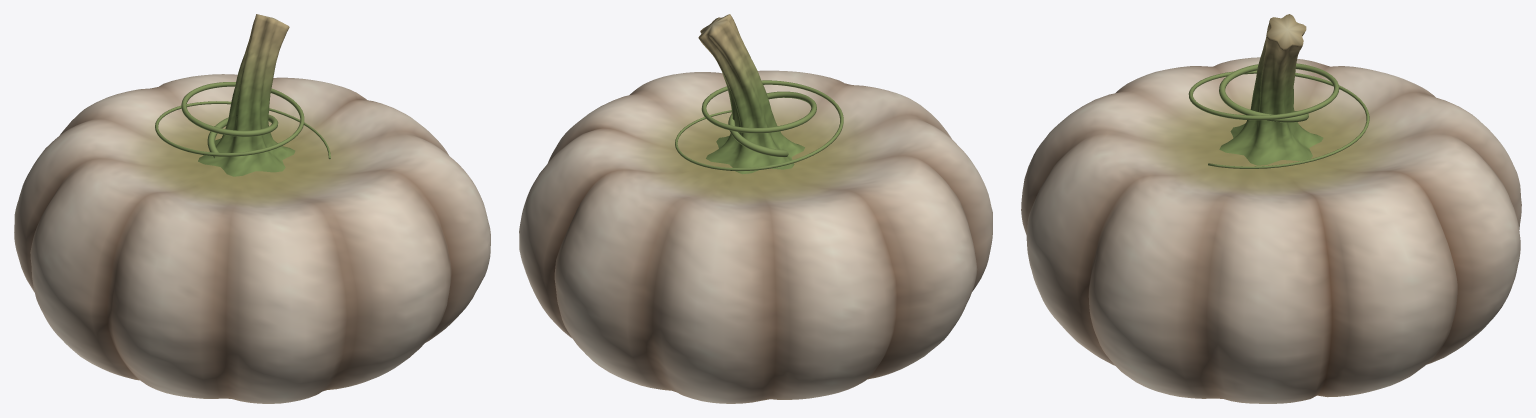
Rendered from pumpkin.glb.
3 views of the same model, side by side, from view 1: azimuth 30°, elevation 25°; view 2: azimuth 150°, elevation 25°; view 3: azimuth 270°, elevation 25° (orthographic). The views are drawn at different scales.
Visible parts, largest first — view 1: Body, Stem, Tendril; view 2: Body, Stem, Tendril; view 3: Body, Stem, Tendril.
Part boxes in pixels (x1,y1,x2,y2): Body: [14, 74, 490, 403]; Stem: [198, 14, 295, 176]; Tendril: [155, 82, 330, 159]; Body: [519, 70, 992, 403]; Stem: [698, 14, 804, 174]; Tendril: [675, 80, 843, 170]; Body: [1021, 57, 1521, 403]; Stem: [1219, 14, 1323, 165]; Tendril: [1188, 63, 1369, 168].
Bounding box in the file's own units: 1.94 × 1.42 × 1.96.
